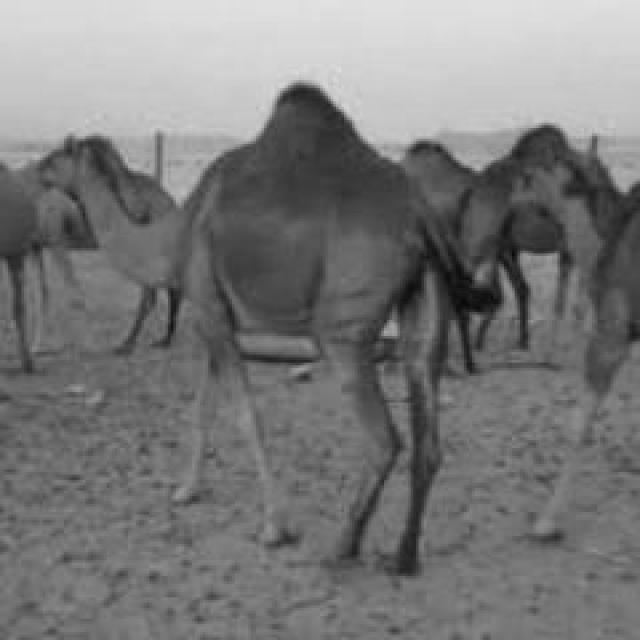Camel: (32, 80, 488, 576)
